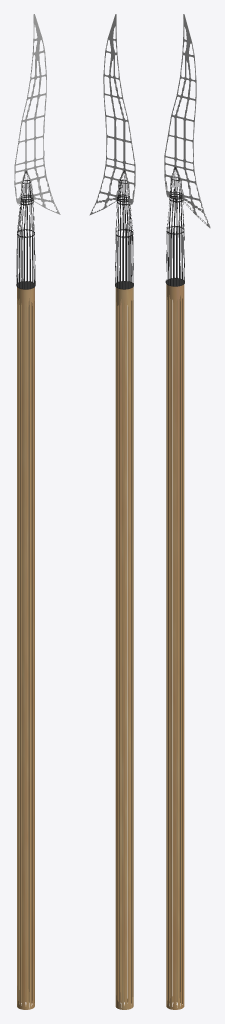
The model's file is WavyHalberd.fbx.
3 renders of one model, left to right at view 1: azimuth 30°, elevation 25°; view 2: azimuth 150°, elevation 25°; view 3: azimuth 330°, elevation 25°, orthographic.
Visible parts, largest first — view 1: pCylinder5, pCylinder6; view 2: pCylinder5, pCylinder6; view 3: pCylinder5, pCylinder6.
Part boxes in pixels (x1,y1,x2,y2): pCylinder5: [17, 287, 34, 1009]; pCylinder6: [14, 14, 60, 289]; pCylinder5: [115, 287, 133, 1009]; pCylinder6: [89, 14, 135, 289]; pCylinder5: [166, 284, 184, 1009]; pCylinder6: [164, 14, 210, 286].
Bounding box in the file's own units: 0.2164 × 4.47 × 0.0789.
Materials: 1 (1 with a texture image).
